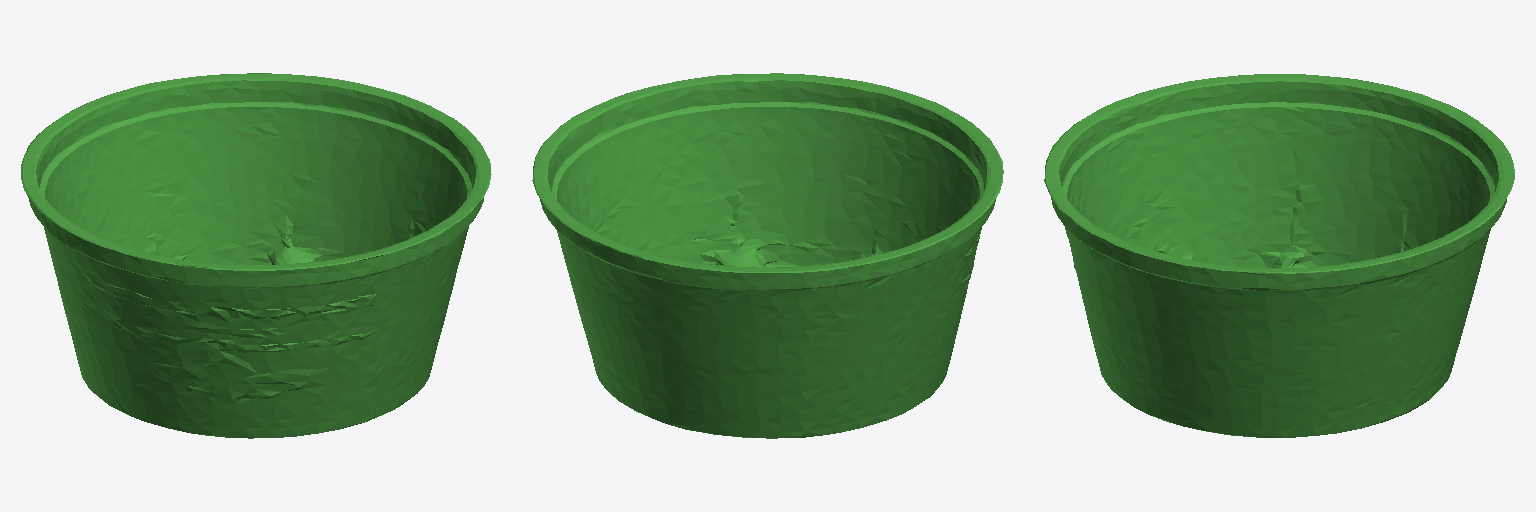
robot.urdf — bowl.urdf:
<?xml version="1.0" ?>
<robot name="bowl.urdf">
  <link name="baseLink">
    <contact>
      <inertia_scaling value="1.0"/>
    </contact>
    <inertial>
      <origin rpy="0 0 0" xyz="-0.025 0 0.02"/>
       <mass value=".1"/>
       <inertia ixx="1" ixy="0" ixz="0" iyy="1" iyz="0" izz="1"/>
    </inertial>
    <visual>
      <origin rpy="0 0 0" xyz="0 0 0"/>
      <geometry>
				<mesh filename="textured-0008192.obj" scale="1.0 1.0 0.3"/>
      </geometry>
      <material name="green">
        <color rgba="0.34901961 0.6627451 0.30980392 1"/>
      </material>
    </visual>
    <collision>
      <origin rpy="0 0 0" xyz="0 0 0"/>
      <geometry>
	 	    <mesh filename="cup.obj" scale="1.0 1.0 0.3"/>
      </geometry>
    </collision>
  </link>
</robot>

--- What the picture shows (computed from the rendered views, not written in the file) ---
3 views of the same robot in one strip: view 1: azimuth 30°, elevation 25°; view 2: azimuth 150°, elevation 25°; view 3: azimuth 270°, elevation 25° (orthographic).
Robot: bowl.urdf — 1 links, 0 joints (none); root link baseLink; default pose: every joint at zero.
Links seen in each view (by area): view 1: baseLink; view 2: baseLink; view 3: baseLink.
Boxes of the visible links, x1,y1,x2,y2 form: baseLink: (21, 73, 491, 438); baseLink: (532, 73, 1003, 438); baseLink: (1044, 74, 1514, 437).
Size in the robot's own frame: 0.0911 by 0.0911 by 0.0415 metres.
1 mesh visuals loaded from 1 distinct referenced files (1 OBJ).
